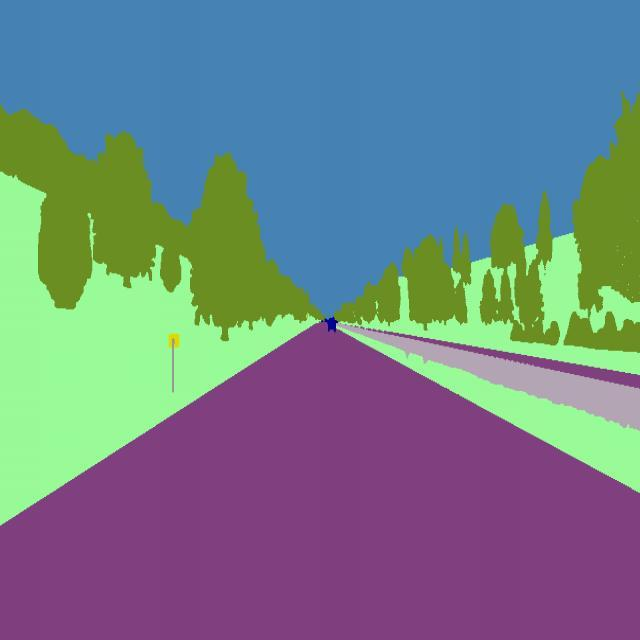safe: (324, 316, 338, 336)
